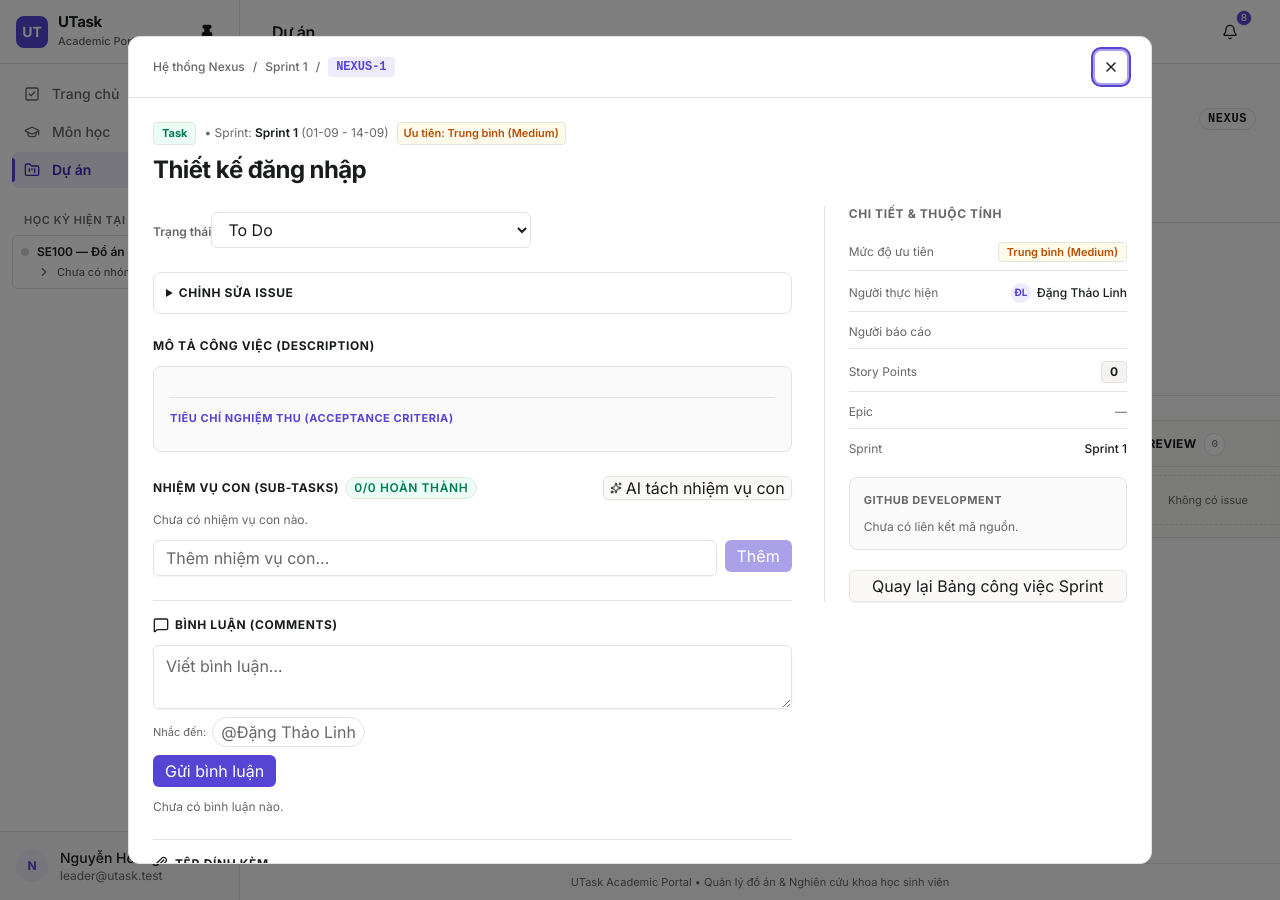
AI task decomposition › lets a leader pick and rename suggestions, then creates only the chosen subtask with points
This screenshot has width=1280, height=900.
Click the button "AI tách nhiệm vụ con" at [697, 488], box [603,476,792,500]
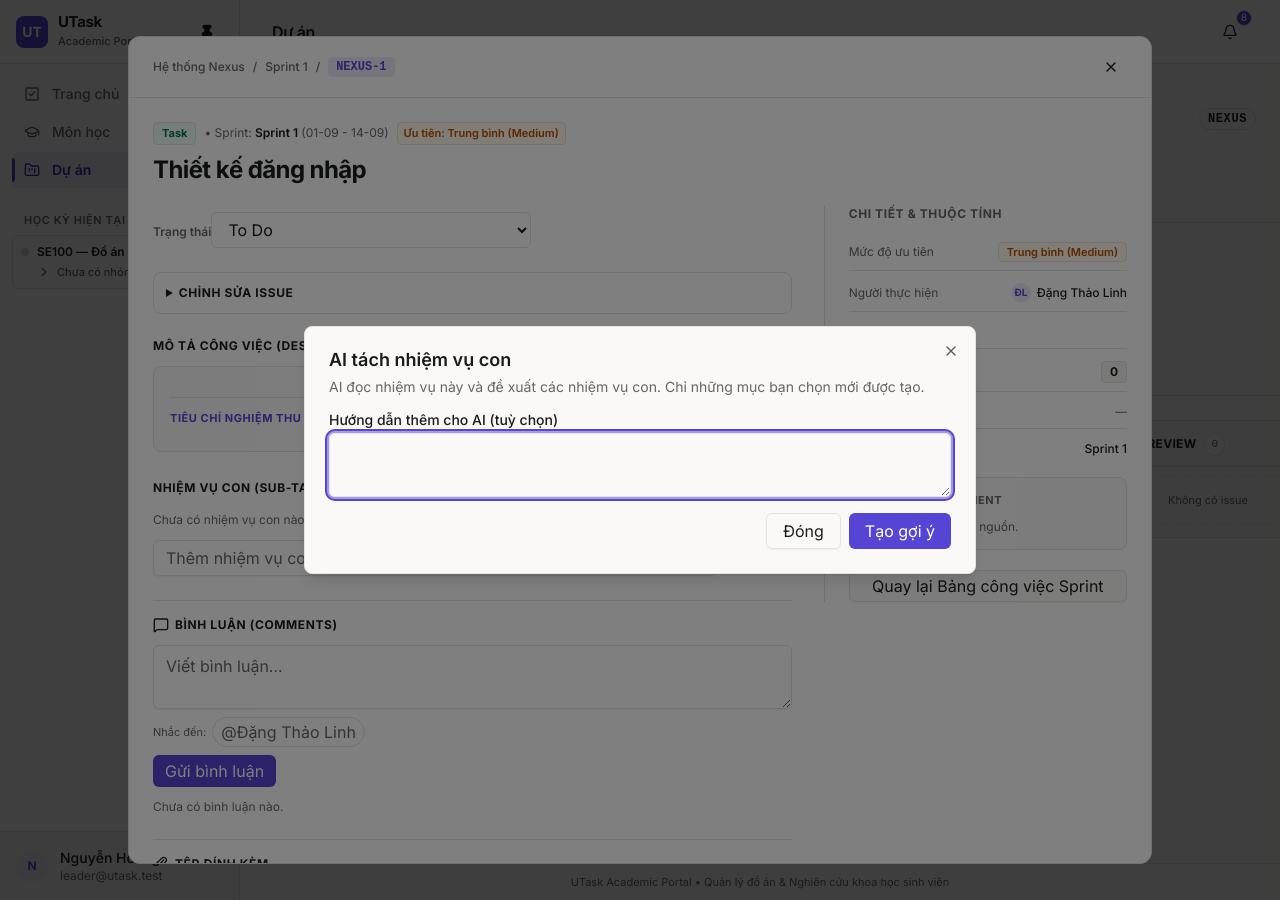
Click the button "Tạo gợi ý" at [900, 531], box [849,513,951,549]
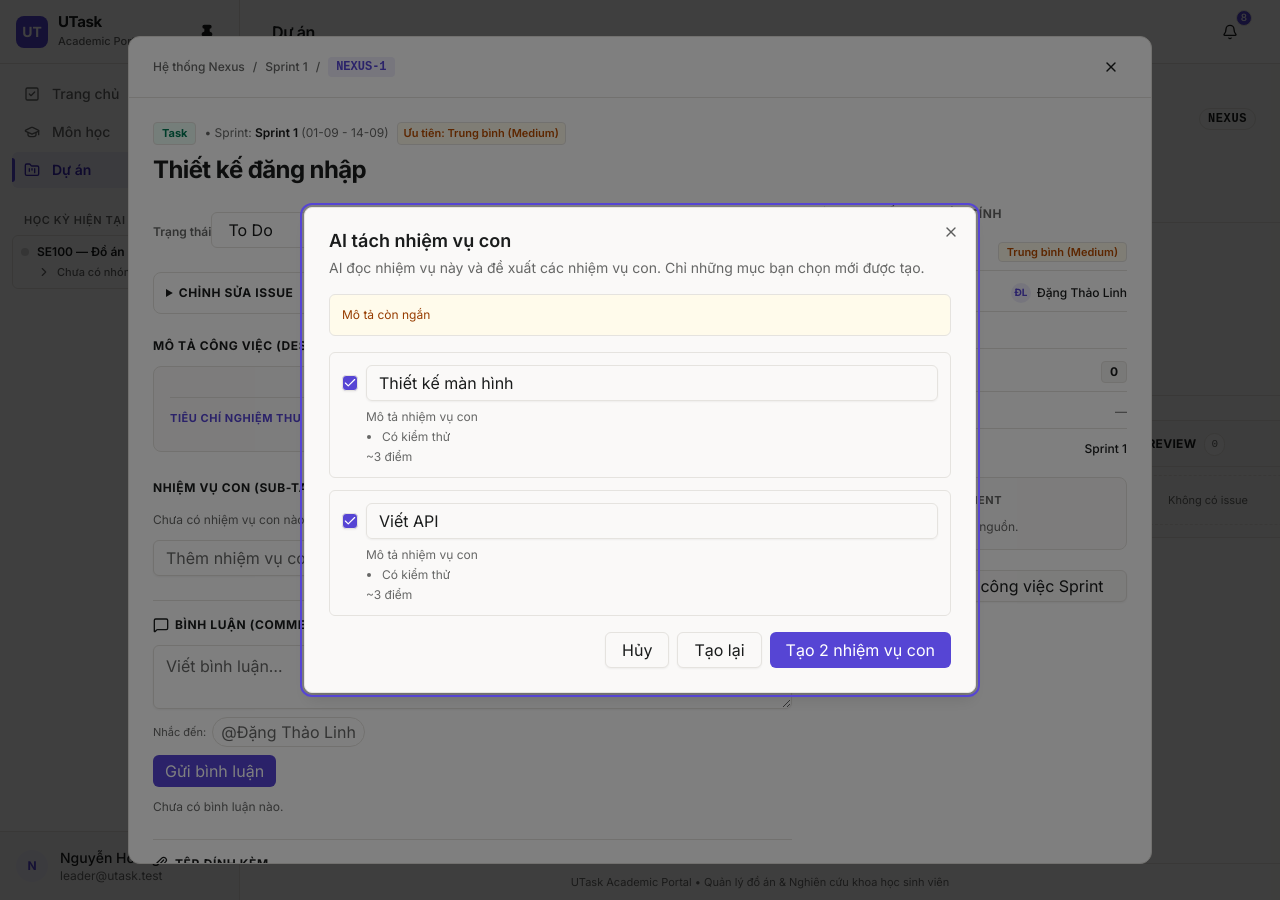
Expected: the field showing "Thiết kế màn hình" is shown, [366,365,938,401]
Expected: the field showing "Viết API" is shown, [366,503,938,539]
Expected: the list item "Mô tả còn ngắn" is shown, [342,307,430,322]
Click the checkbox named "Chọn đề xuất 2" at [350, 521], box [342,513,358,529]
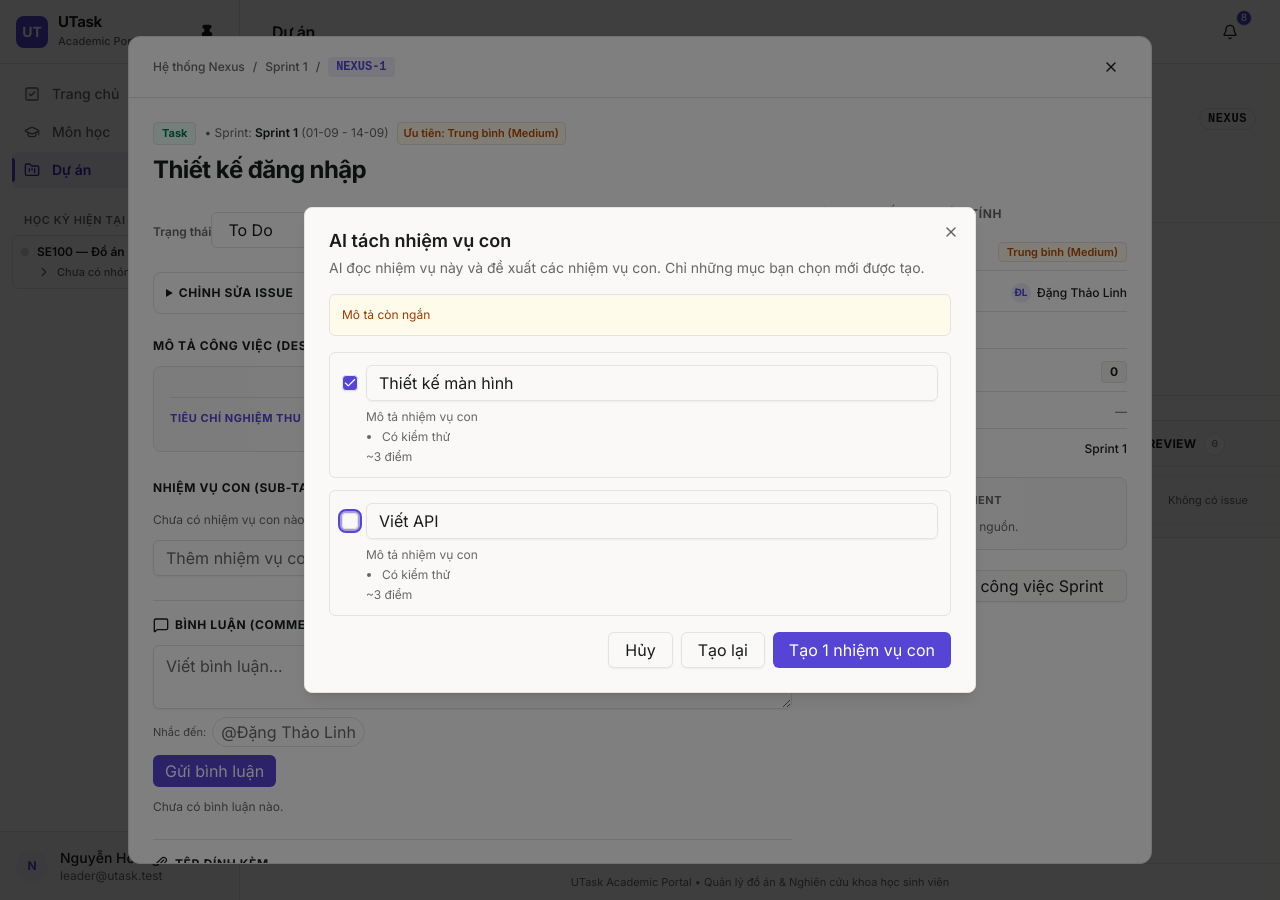
Replace the text in the field named "Tiêu đề đề xuất 1" with "X" at [652, 383], box [366,365,938,401]
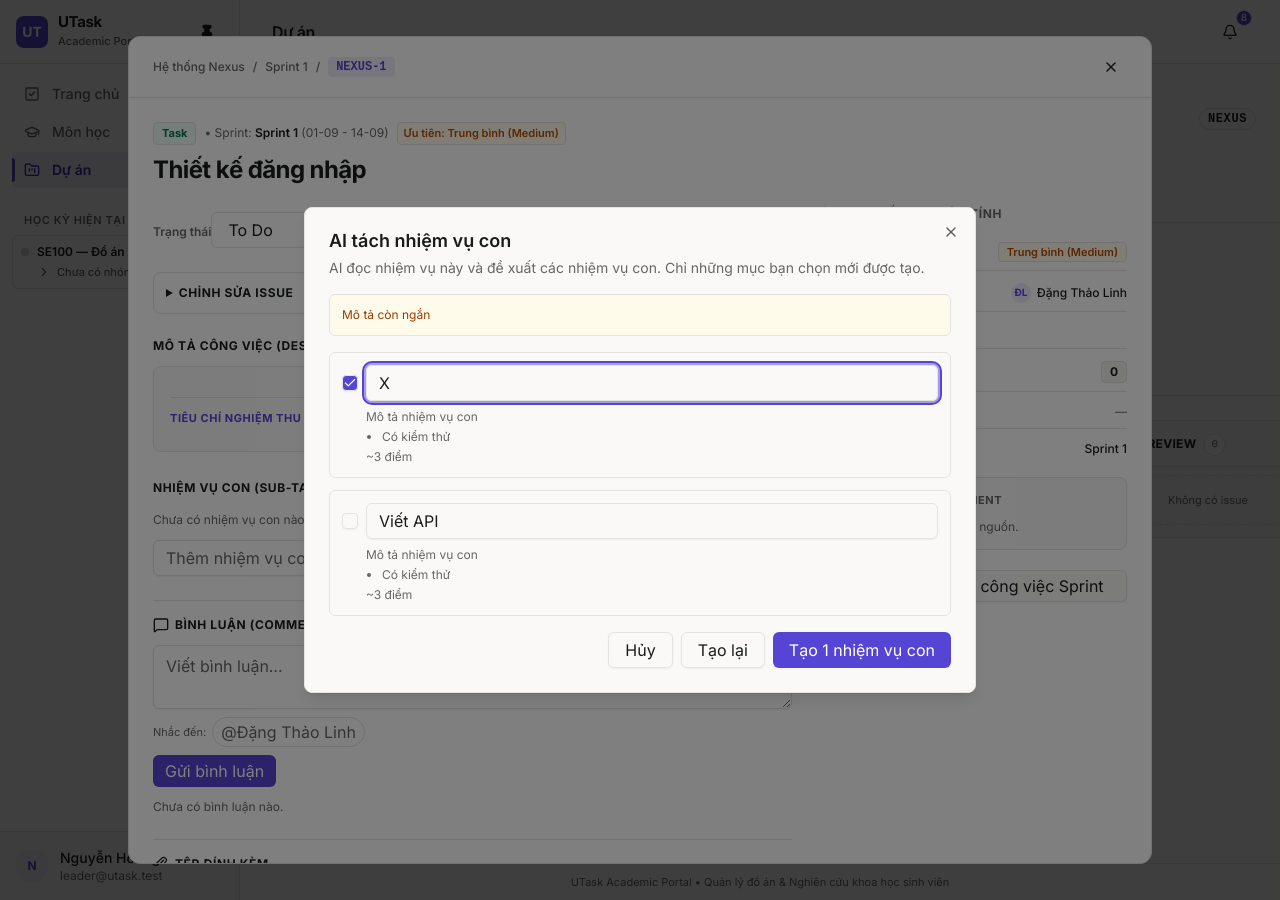
Click the button "Tạo 1 nhiệm vụ con" at [862, 650], box [773,632,951,668]
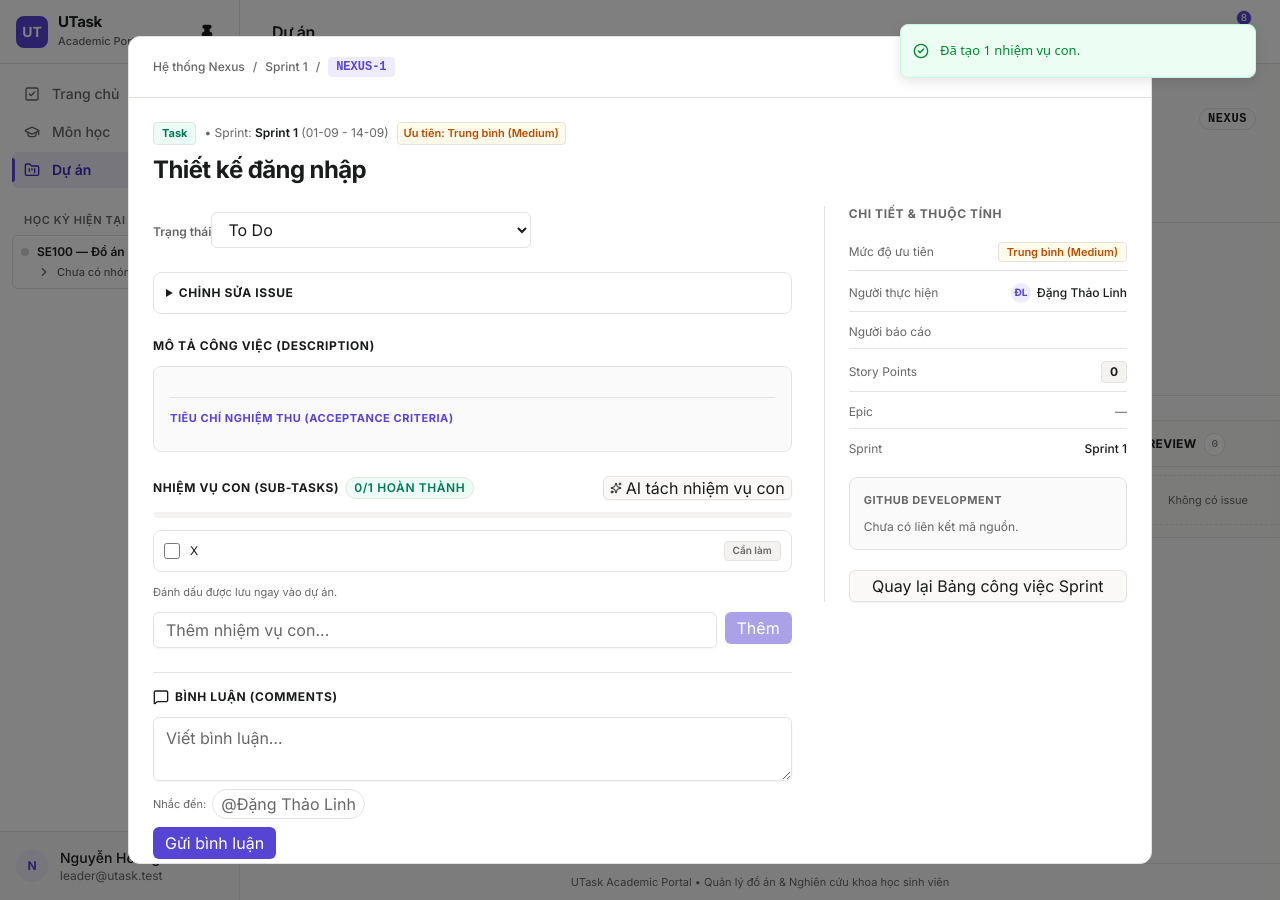
Expected: the text "Đã tạo 1 nhiệm vụ con." is shown, [940,41,1080,60]
